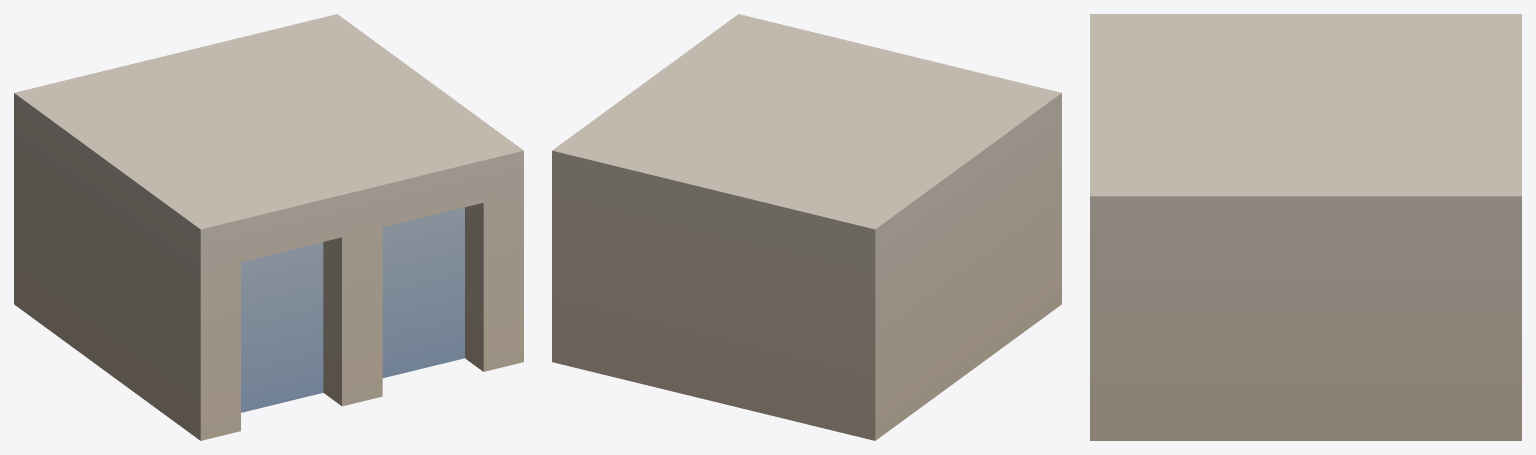
File: building-windows-high-top-square.glb
The picture shows the model from 3 angles, left to right: view 1: azimuth 30°, elevation 25°; view 2: azimuth 150°, elevation 25°; view 3: azimuth 270°, elevation 25°; orthographic projection. The views are drawn at different scales.
Parts seen in each view (by area): view 1: building-windows-high-top-square; view 2: building-windows-high-top-square; view 3: building-windows-high-top-square.
Boxes of the visible parts, box(x1,y1,x2,y2) form: building-windows-high-top-square: box(14, 14, 523, 440); building-windows-high-top-square: box(552, 14, 1061, 440); building-windows-high-top-square: box(1090, 14, 1521, 440).
Size of the model in its own units: 1 by 0.625 by 1.
